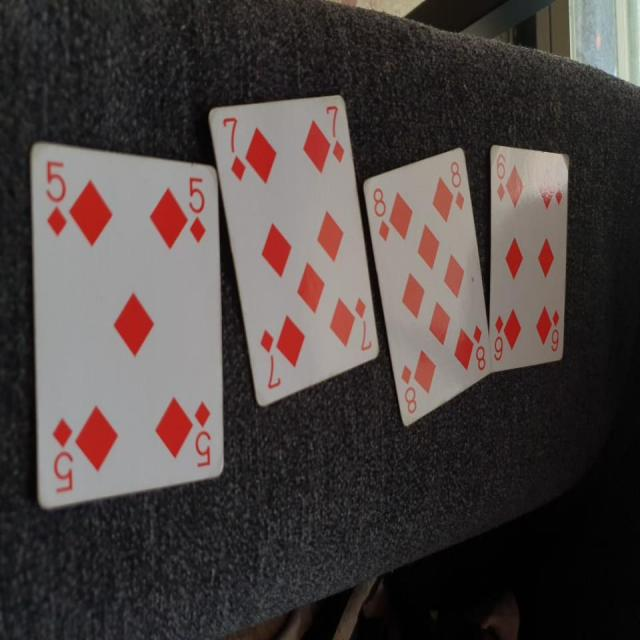5 Diamonds: (30, 138, 224, 512)
6 Diamonds: (487, 141, 570, 367)
7 Diamonds: (208, 93, 382, 407)
8 Diamonds: (363, 144, 491, 427)
